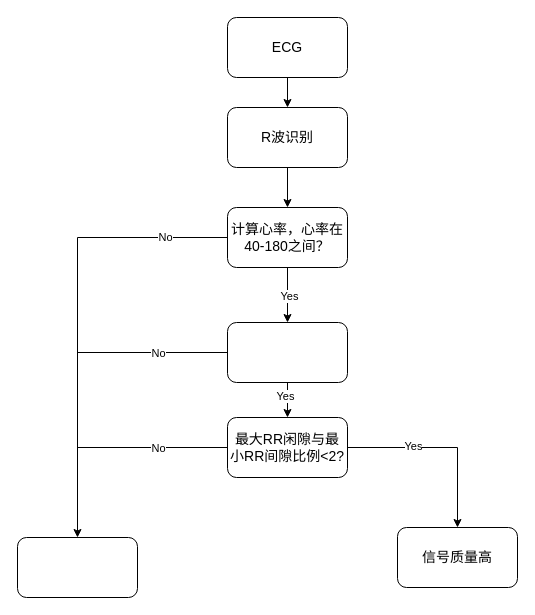
This 535x615 diagram has some shape labels left out. The shapes that lost their labels are listed below. From the top down, each one's centre as x and y in pixels, then its label:
point (287, 352): 最大RR间隙<3s?
point (77, 567): 信号质量低
